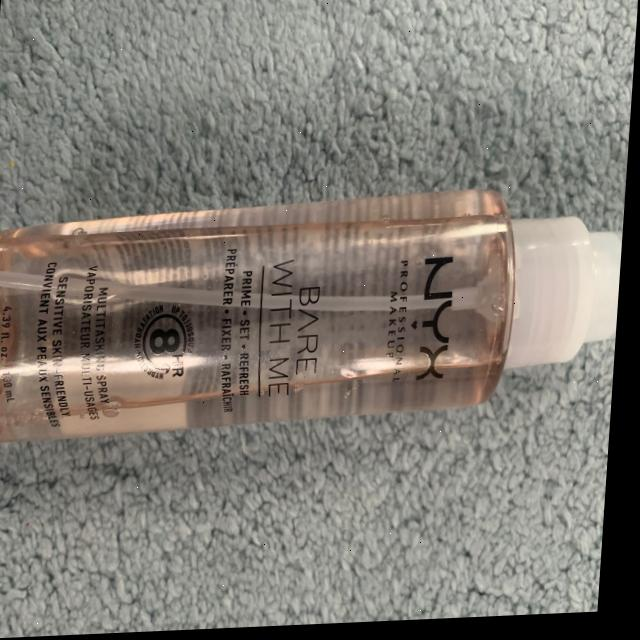setting spray: (0, 139, 632, 476)
